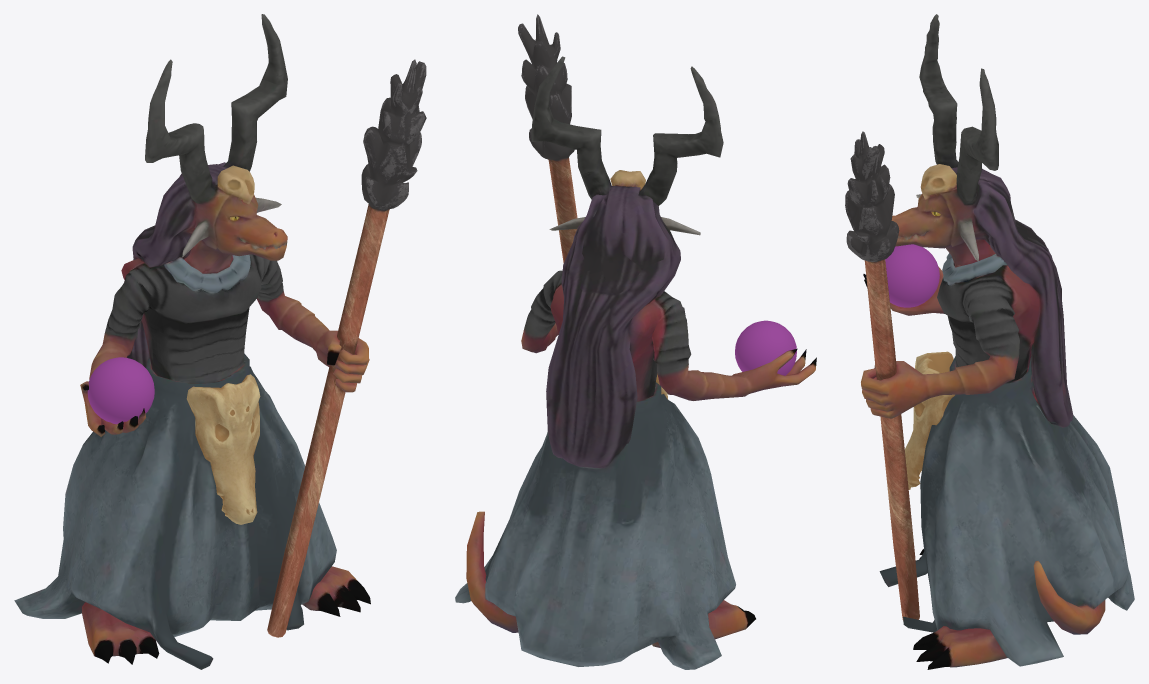
Rendered from MZ4250 - Kobold Chief.glb.
3 renders of one model, left to right at view 1: azimuth 30°, elevation 25°; view 2: azimuth 150°, elevation 25°; view 3: azimuth 270°, elevation 25°, orthographic. The views are drawn at different scales.
Visible parts, largest first — view 1: Body.001; view 2: Body.001; view 3: Body.001.
Boxes of the visible parts, <box> form: Body.001: <box>14,14,426,669</box>; Body.001: <box>455,14,816,669</box>; Body.001: <box>845,14,1134,669</box>.
Bounding box in the file's own units: 0.627 × 1.09 × 0.5022.
Materials: 4 (4 with a texture image).
